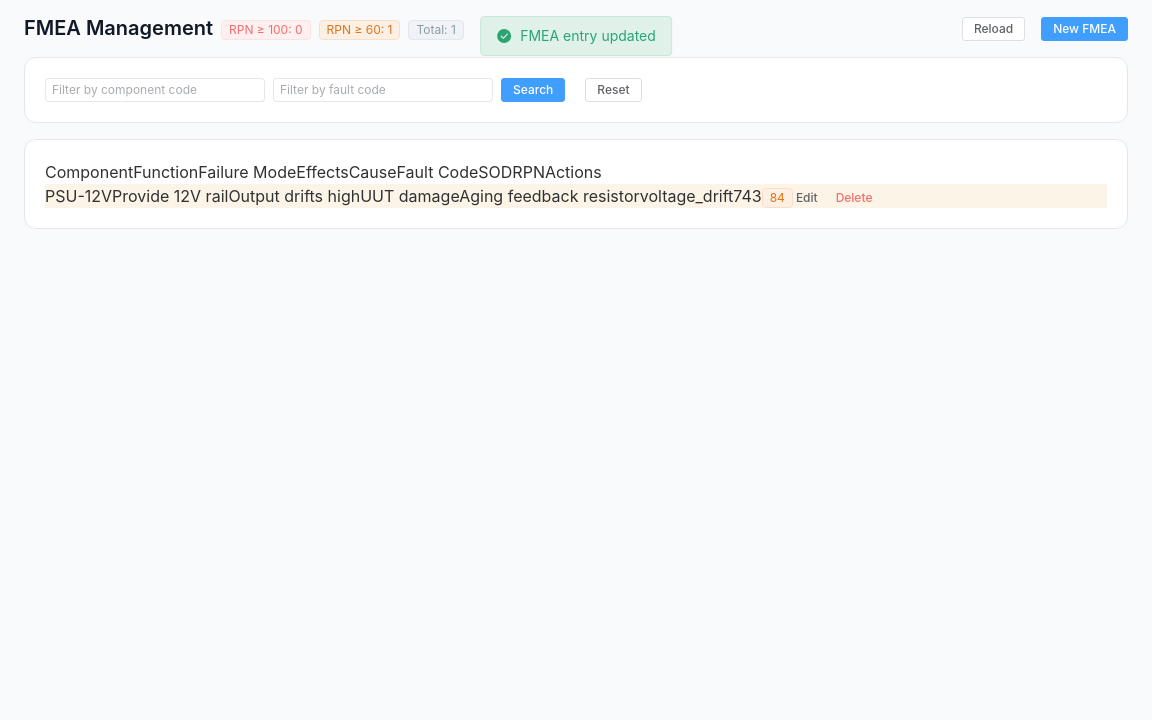
Test: FmeaManagement › surfaces a server 422 as an inline dialog error and keeps the dialog open
Click the button "Edit" at {"x": 807, "y": 198}, box [793, 189, 821, 207]
(page scrolled)
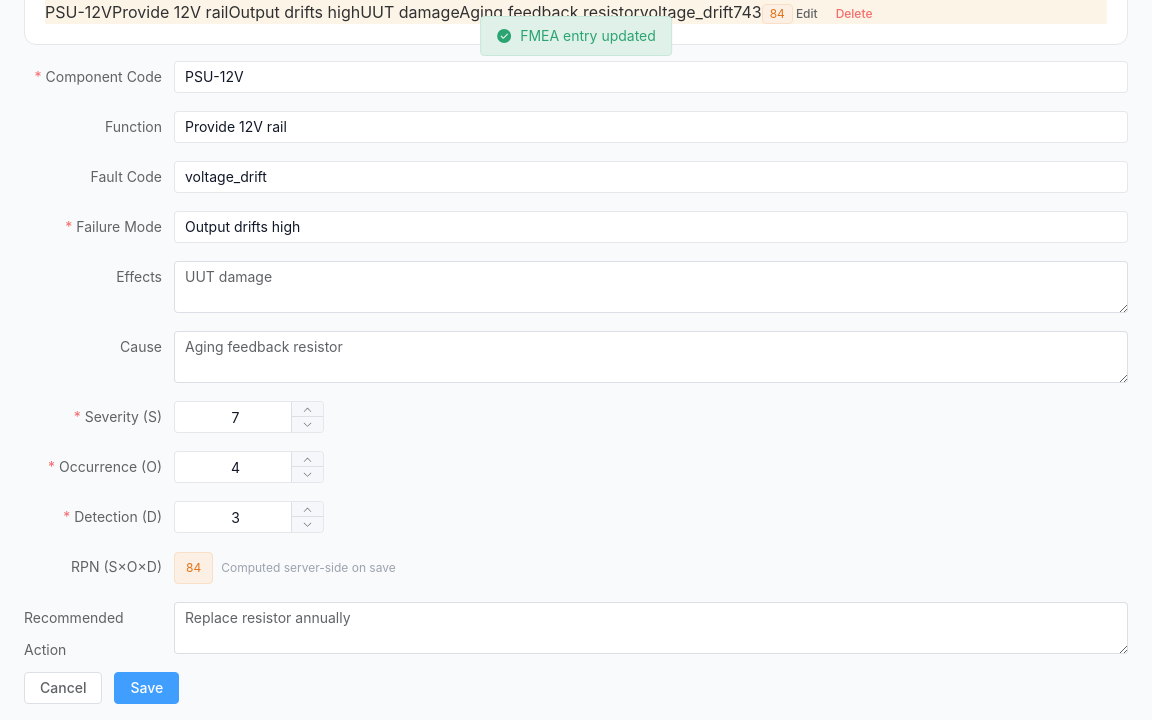
Click the button with test id "btn-save" at {"x": 147, "y": 688}, box [114, 672, 179, 704]
(page scrolled)
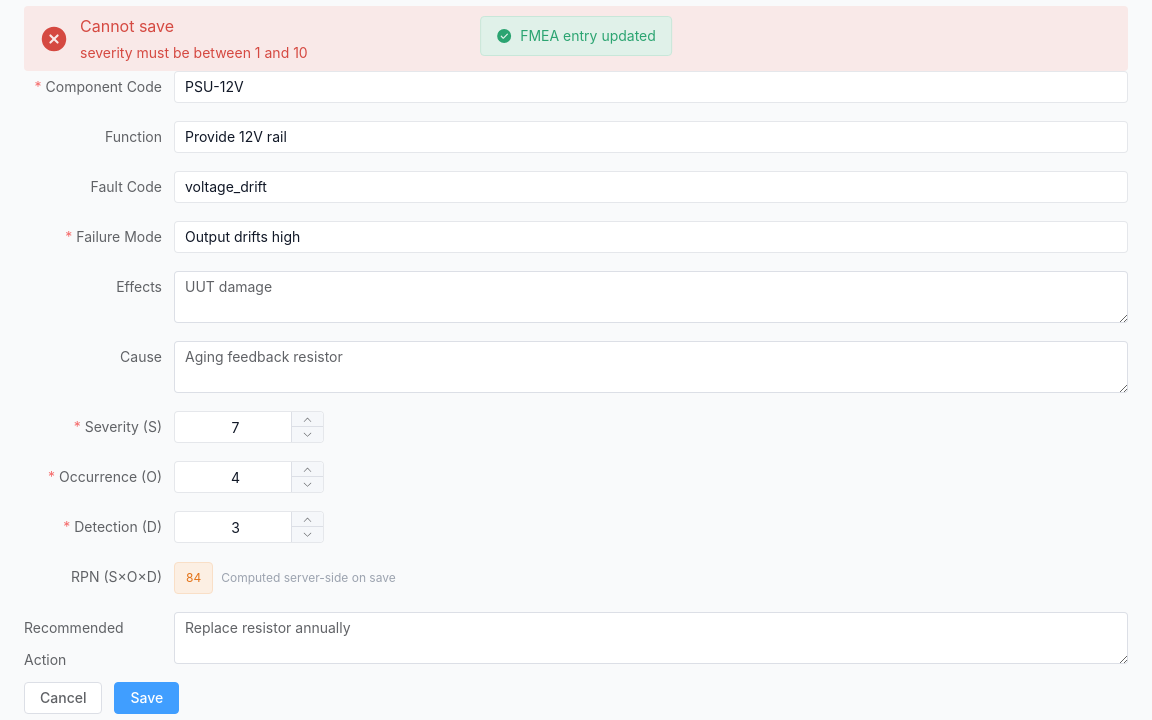
Result: the element with test id "fmea-dialog" is shown
Result: the element with test id "dialog-error" is shown at [24, 6, 1128, 71]
Result: the element with test id "dialog-error" shows "severity must be between 1 and 10" at [80, 44, 308, 61]
